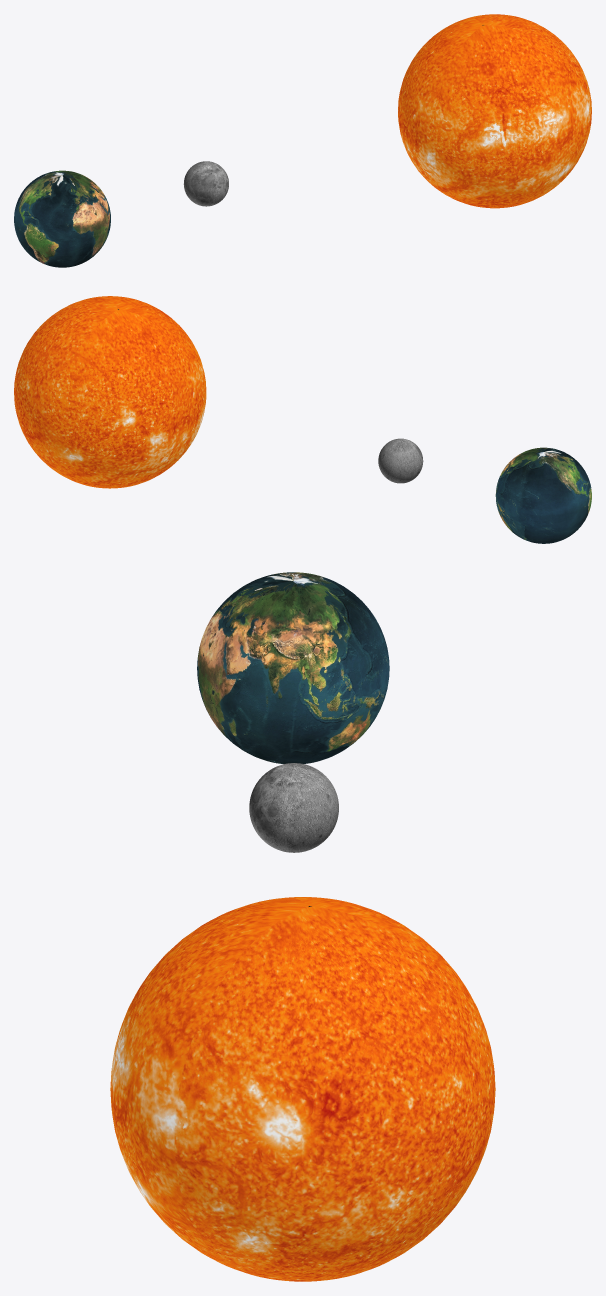
Rendered from eclipse_solar_3d.glb.
The picture shows the model from 3 angles, top to bottom: view 1: azimuth 30°, elevation 25°; view 2: azimuth 150°, elevation 25°; view 3: azimuth 270°, elevation 25°; orthographic projection. The views are drawn at different scales.
Parts seen in each view (by area): view 1: Object_3, Object_2, Object_4; view 2: Object_3, Object_2, Object_4; view 3: Object_3, Object_2, Object_4.
Part boxes in pixels (x1,y1,x2,y2): Object_3: [398, 14, 591, 208]; Object_2: [14, 170, 110, 267]; Object_4: [183, 161, 228, 206]; Object_3: [14, 296, 206, 488]; Object_2: [495, 447, 591, 543]; Object_4: [378, 438, 423, 483]; Object_3: [110, 897, 495, 1281]; Object_2: [197, 572, 389, 763]; Object_4: [249, 763, 338, 852].
Size of the model in its own units: 200 by 60 by 60.
3 materials, 3 textured.
